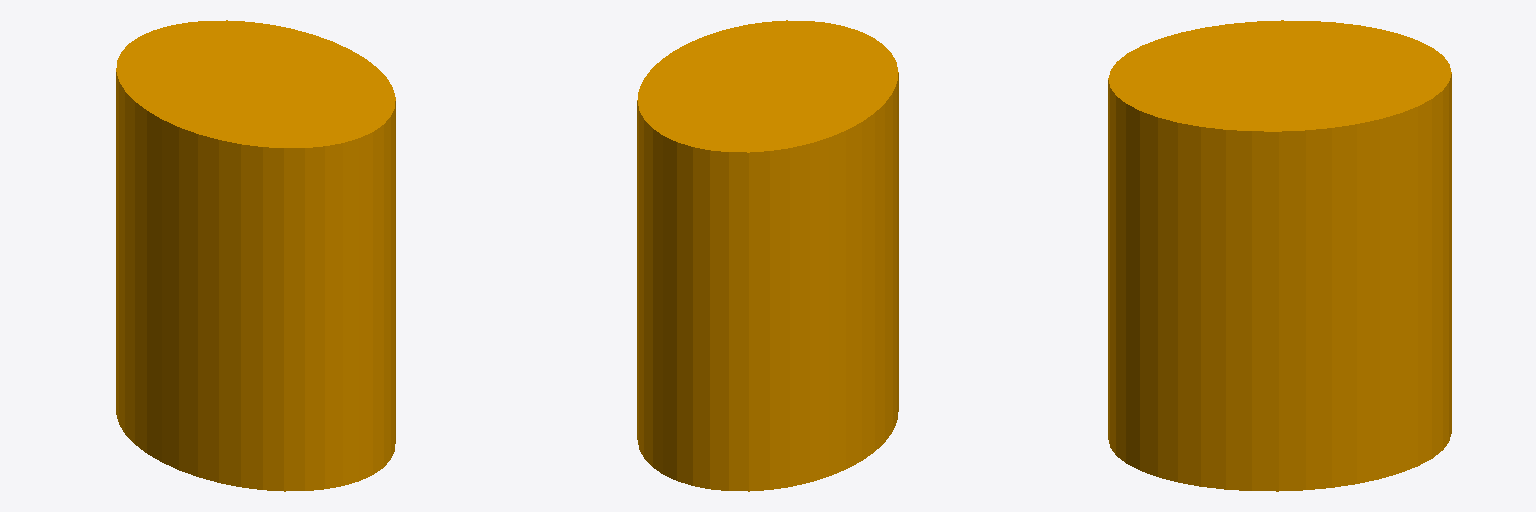
The robot description file, URDF, robot "object":
<?xml version="1.0"?>
<robot name="object">
  <link name="object">
    <visual>
      <origin xyz="0 0 0"/>
      <geometry>
        <mesh filename="meshes/generated/col_073.obj" scale="0.03 0.03 0.03"/>
      </geometry>
    </visual>
    <collision>
      <origin xyz="0 0 0"/>
      <geometry>
        <mesh filename="meshes/generated/col_073.obj" scale="0.03 0.03 0.03"/>
      </geometry>
    </collision>
    <inertial>
      <density value="1000.0"/>
    </inertial>
  </link>
</robot>

--- Render facts (derived) ---
Views: 3 orthographic renders of the robot side by side, from view 1: azimuth 30°, elevation 25°; view 2: azimuth 150°, elevation 25°; view 3: azimuth 270°, elevation 25°.
Robot: object — 1 links, 0 joints (none); root link object; default pose: every joint at zero.
Links seen in each view (by area): view 1: object; view 2: object; view 3: object.
Link boxes in pixels (left/top/right/bottom): object: left=116, top=20, right=395, bottom=491; object: left=637, top=20, right=898, bottom=491; object: left=1108, top=20, right=1451, bottom=491.
Bounding box of the posed robot: 0.0397 × 0.0519 × 0.06 m (x, y, z).
1 mesh visuals loaded from 1 distinct referenced files (1 OBJ).
